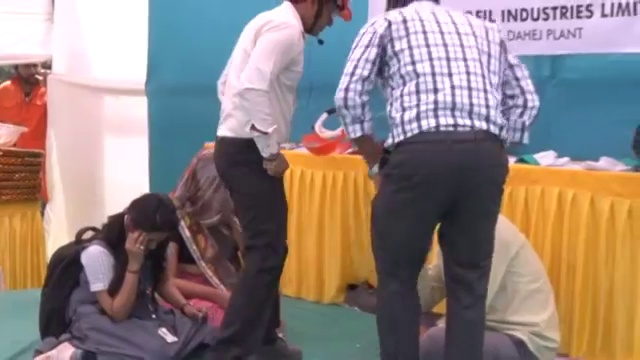helmet: (0, 119, 27, 150)
helmet_off: (112, 192, 183, 252), (186, 142, 239, 217), (286, 1, 354, 47), (13, 58, 43, 90)
person: (331, 0, 540, 358), (213, 0, 353, 357), (33, 194, 202, 359), (415, 206, 564, 360), (159, 146, 246, 325), (0, 60, 48, 152)
